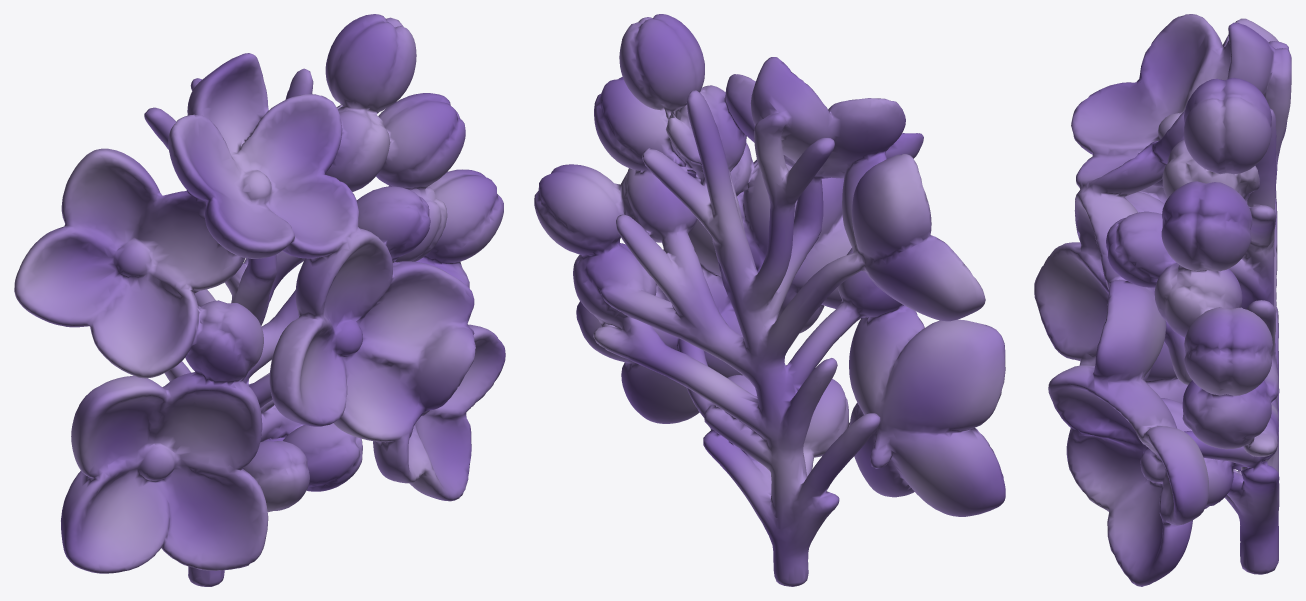
File: lilac.glb
3 renders of one model, left to right at view 1: azimuth 30°, elevation 25°; view 2: azimuth 150°, elevation 25°; view 3: azimuth 270°, elevation 25°, orthographic. The views are drawn at different scales.
Parts seen in each view (by area): view 1: lilac; view 2: lilac; view 3: lilac.
Part boxes in pixels (x1,y1,x2,y2): lilac: (14,14,505,586); lilac: (534,14,1005,586); lilac: (1034,14,1291,586).
Bounding box in the file's own units: 0.916 × 1 × 0.4095.
